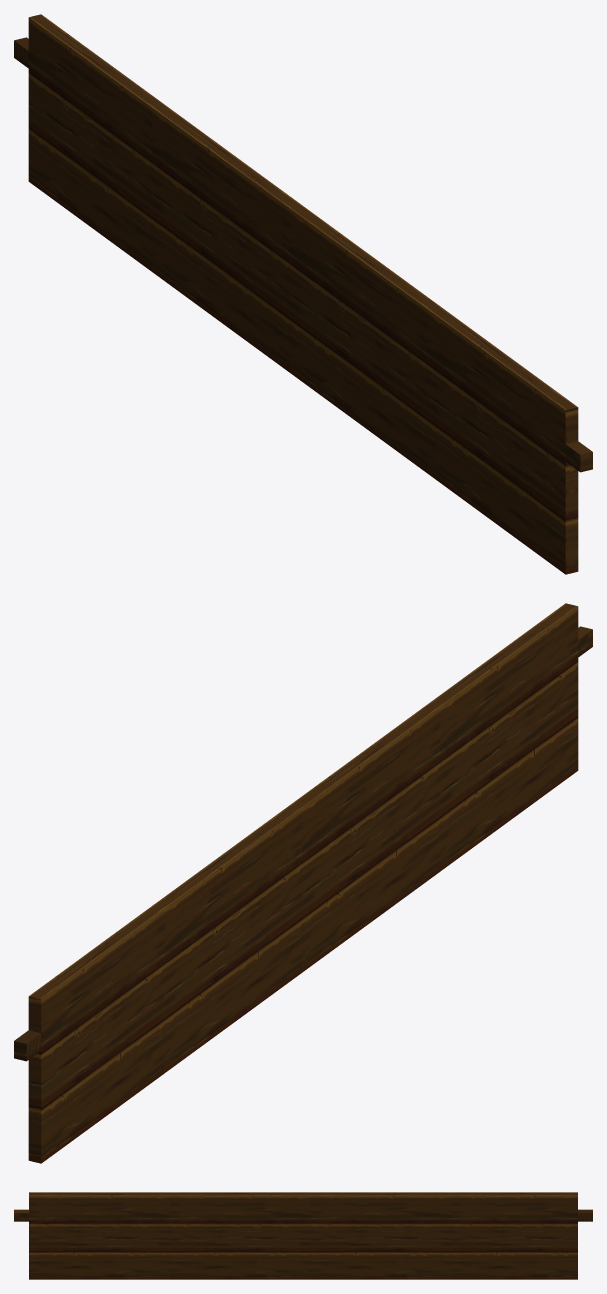
Rendered from Startingline_Barrier.fbx.
3 renders of one model, top to bottom at view 1: azimuth 30°, elevation 25°; view 2: azimuth 150°, elevation 25°; view 3: azimuth 270°, elevation 25°, orthographic. The views are drawn at different scales.
Parts seen in each view (by area): view 1: polySurface1; view 2: polySurface1; view 3: polySurface1.
Boxes of the visible parts, x1,y1,x2,y2 form: polySurface1: (14, 14, 592, 574); polySurface1: (14, 603, 592, 1163); polySurface1: (14, 1192, 592, 1279).
Bounding box in the file's own units: 18.83 × 1467 × 235.
